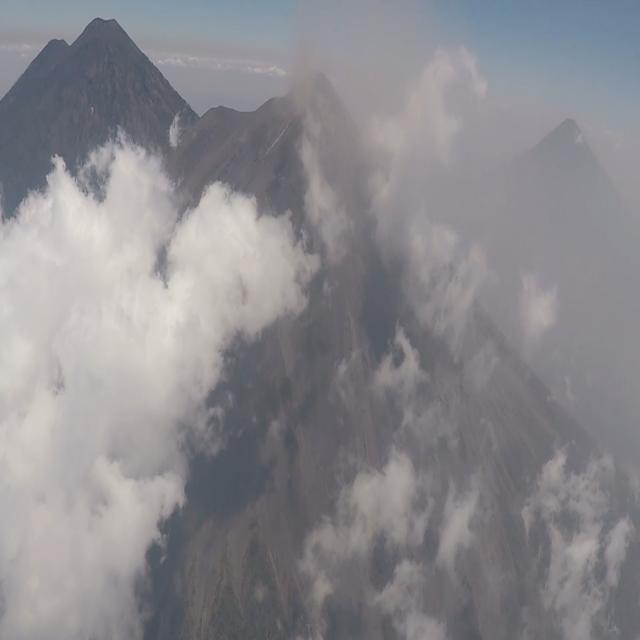Summit: (249, 56, 364, 140)
